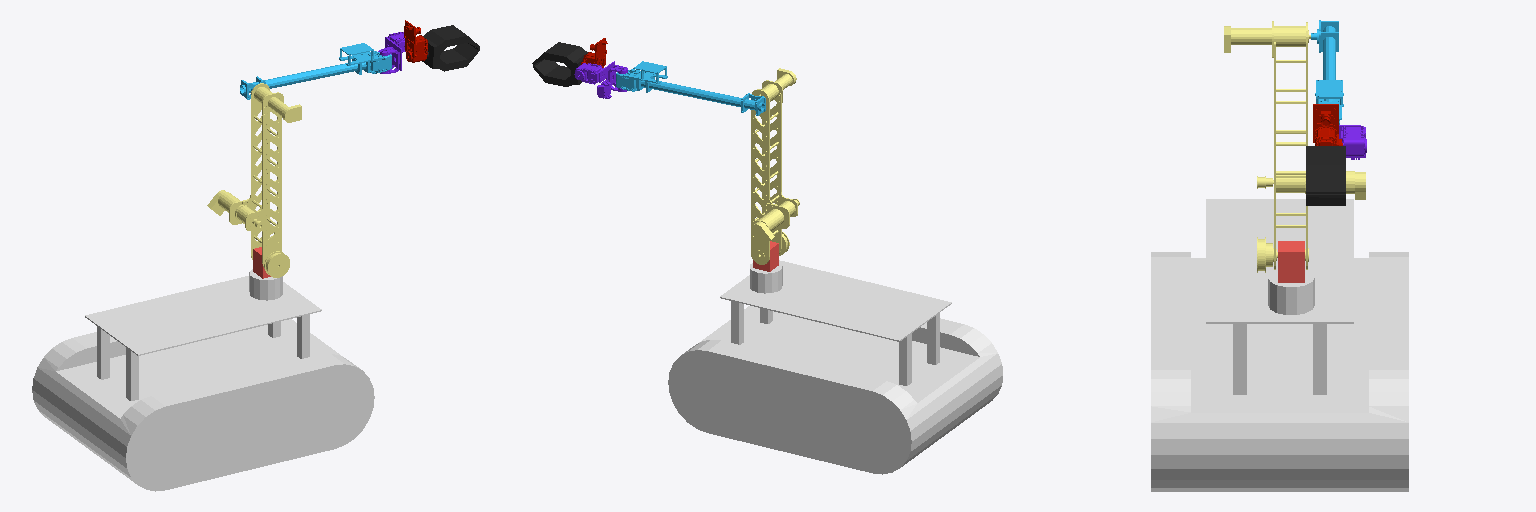
The robot description file, URDF, robot "rescue_urdf":
<?xml version="1.0" encoding="utf-8"?>
<robot name="rescue_urdf">
	<material name="Black">
		<color rgba="0.2 0.2 0.2 1.0" />
	</material>
	<material name="TransparentBlack">
		<color rgba="0.2 0.2 0.2 0.8" />
	</material>
	<material name="Orange">
		<color rgba="1.0  0.55 0.0 1.0" />
	</material>
	<material name="Grey">
		<color rgba="0.7 0.7 0.7 1.0" />
	</material>
	<material name="DarkGrey">
		<color rgba="0.3 0.3 0.3 1.0" />
	</material>
	<material name="Red">
		<color rgba="0.8 0.0 0.0 1.0" />
	</material>
	<material name="White">
		<color rgba="1.0 1.0 1.0 1.0" />
	</material>
	<material name="OffWhite">
		<color rgba="0.8 0.8 0.8 1.0" />
	</material>
	<material name="Blue">
		<color rgba="0.0 0.0 0.8 1.0" />
	</material>
	<material name="Green">
		<color rgba="0.0 0.8 0.0 1.0" />
	</material>
	<material name="TransparentGreen">
		<color rgba="0.0 0.8 0.0 0.5" />
	</material>
	<link name="base_link">
		<inertial>
			<origin xyz="2.019E-18 -4.2223E-19 -0.0015117" rpy="0 0 0" />
			<mass value="0.062832" />
			<inertia ixx="5.4116E-05" ixy="-8.7997E-21" ixz="2.9353E-22" iyy="8.0393E-06" iyz="3.5981E-22" izz="5.8643E-05" />
		</inertial>
		<visual>
			<origin xyz="0 0 0" rpy="0 0 0" />
			<geometry>
				<mesh filename="package://rescue_new/meshes/base_link.STL" />
			</geometry>
			<material name="">
				<color rgba="0.2 0.2 0.2 1" />
			</material>
		</visual>
		<collision>
			<origin xyz="0 0 0" rpy="0 0 0" />
			<geometry>
				<mesh filename="package://rescue_new/meshes/base_link.STL" />
			</geometry>
		</collision>
	</link>
	<joint name="joint_front_back" type="revolute">
		<origin xyz="0 0 -0.01" rpy="0 0 0" />
		<parent link="base_link" />
		<child link="front_back_base" />
		<axis xyz="0 1 0" />
		<limit lower="-1.05" upper="1.05" effort="0" velocity="0" />
	</joint>
	<link name="front_back_base">
		<inertial>
			<origin xyz="5.755E-18 -0.00029577 0.0015169" rpy="0 0 0" />
			<mass value="0.062832" />
			<inertia ixx="8.0393E-06" ixy="4.75E-21" ixz="-3.5459E-22" iyy="5.4121E-05" iyz="-1.5765E-07" izz="5.8638E-05" />
		</inertial>
		<visual>
			<origin xyz="0 0 0" rpy="0 0 0" />
			<geometry>
				<mesh filename="package://rescue_new/meshes/front_back_base.STL" />
			</geometry>
			<material name="">
				<color rgba="0.2 0.2 0.2 1" />
			</material>
		</visual>
		<collision>
			<origin xyz="0 0 0" rpy="0 0 0" />
			<geometry>
				<mesh filename="package://rescue_new/meshes/front_back_base.STL" />
			</geometry>
		</collision>
	</link>
	<joint name="robot_left_right" type="revolute">
		<origin xyz="0 0 0.105" rpy="0 0 0" />
		<parent link="front_back_base" />
		<child link="frame_Link" />
		<axis xyz="1 0 0" />
		<limit lower="-1.05" upper="1.05" effort="0" velocity="0" />
	</joint>
	<link name="frame_Link">
		<inertial>
			<origin xyz="0.00077984 8.3381E-05 -0.0066376" rpy="0 0 0" />
			<mass value="36.094" />
			<inertia ixx="0.57342" ixy="0.00047616" ixz="0.0059852" iyy="1.0475" iyz="0.00063993" izz="1.4159" />
		</inertial>
		<visual>
			<origin xyz="0 0 0" rpy="0 0 0" />
			<geometry>
				<mesh filename="package://rescue_new/meshes/frame_Link.STL" />
			</geometry>
			<material name="">
				<color rgba="0.94 0.94 0.94 1" />
			</material>
		</visual>
		<collision>
			<origin xyz="0 0 0" rpy="0 0 0" />
			<geometry>
				<mesh filename="package://rescue_new/meshes/frame_Link.STL" />
			</geometry>
		</collision>
	</link>
	<!-- 机械臂部分 -->
	<joint name="arm1_bearing_joint" type="revolute">
		<origin xyz="0.159 0.017 0.229" rpy="0 0 0" />
		<parent link="frame_Link" />
		<child link="arm1_Link" />
		<axis xyz="0 0 1" />
		<limit lower="-2.0" upper="2.0" effort="0" velocity="0" />
	</joint>
	<link name="arm1_Link">
		<inertial>
			<origin xyz="0 3.4694E-18 0.024881" rpy="0 0 0" />
			<mass value="0.072961" />
			<inertia ixx="2.5689E-05" ixy="3.1598E-22" ixz="2.3664E-21" iyy="2.6532E-05" iyz="1.1228E-21" izz="2.064E-05" />
		</inertial>
		<visual>
			<origin xyz="0 0 0" rpy="0 0 0" />
			<geometry>
				<mesh filename="package://rescue_new/meshes/arm1_Link.STL" />
			</geometry>
			<material name="">
				<color rgba="1 0.4 0.37 1" />
			</material>
		</visual>
		<collision>
			<origin xyz="0 0 0" rpy="0 0 0" />
			<geometry>
				<mesh filename="package://rescue_new/meshes/arm1_Link.STL" />
			</geometry>
		</collision>
	</link>
	<joint name="arm2_arm1_joint" type="revolute">
		<origin xyz="0 0 0.037" rpy="0 0 0" />
		<parent link="arm1_Link" />
		<child link="arm2_Link" />
		<axis xyz="0 1 0" />
		<limit lower="-1.55" upper="1.4935" effort="0" velocity="0" />
	</joint>
	<link name="arm2_Link">
		<inertial>
			<origin xyz="-0.01735 0.0047967 0.17002" rpy="0 0 0" />
			<mass value="0.35607" />
			<inertia ixx="0.0070072" ixy="-0.00026676" ixz="0.00046445" iyy="0.0063258" iyz="-0.00079961" izz="0.0011004" />
		</inertial>
		<visual>
			<origin xyz="0 0 0" rpy="0 0 0" />
			<geometry>
				<mesh filename="package://rescue_new/meshes/arm2_Link.STL" />
			</geometry>
			<material name="">
				<color rgba="1 0.98 0.62 1" />
			</material>
		</visual>
		<collision>
			<origin xyz="0 0 0" rpy="0 0 0" />
			<geometry>
				<mesh filename="package://rescue_new/meshes/arm2_Link.STL" />
			</geometry>
		</collision>
	</link>
	<joint name="arm3_arm2_joint" type="revolute">
		<origin xyz="0 0.05715 0.36" rpy="1.8121E-15 0.034441 2.8069E-15" />
		<parent link="arm2_Link" />
		<child link="arm3_Link" />
		<axis xyz="0 1 0" />
		<limit lower="-2.6" upper="2" effort="0" velocity="0" />
	</joint>
	<link name="arm3_Link">
		<inertial>
			<origin xyz="0.20711 -0.00070341 0.0017452" rpy="0 0 0" />
			<mass value="0.10124" />
			<inertia ixx="2.3141E-05" ixy="1.4649E-05" ixz="1.5792E-06" iyy="0.0013066" iyz="1.244E-07" izz="0.0012991" />
		</inertial>
		<visual>
			<origin xyz="0 0 0" rpy="0 0 0" />
			<geometry>
				<mesh filename="package://rescue_new/meshes/arm3_Link.STL" />
			</geometry>
			<material name="">
				<color rgba="0.27 0.8 1 1" />
			</material>
		</visual>
		<collision>
			<origin xyz="0 0 0" rpy="0 0 0" />
			<geometry>
				<mesh filename="package://rescue_new/meshes/arm3_Link.STL" />
			</geometry>
		</collision>
	</link>
	<joint name="pt1_arm_joint" type="revolute">
		<origin xyz="0.314 0 -0.003" rpy="-2.2342E-15 3.6082E-16 -2.4361E-16" />
		<parent link="arm3_Link" />
		<child link="pt1_Link" />
		<axis xyz="0 0 1" />
		<limit lower="-1.56302" upper="1.0501" effort="0" velocity="0" />
	</joint>
	<link name="pt1_Link">
		<inertial>
			<origin xyz="0.044077 0.029007 0.0089778" rpy="0 0 0" />
			<mass value="0.075063" />
			<inertia ixx="4.1082E-05" ixy="1.4895E-05" ixz="1.4511E-05" iyy="5.8057E-05" iyz="3.8483E-06" izz="6.3298E-05" />
		</inertial>
		<visual>
			<origin xyz="0 0 0" rpy="0 0 0" />
			<geometry>
				<mesh filename="package://rescue_new/meshes/pt1_Link.STL" />
			</geometry>
			<material name="">
				<color rgba="0.55 0.21 1 1" />
			</material>
		</visual>
		<collision>
			<origin xyz="0 0 0" rpy="0 0 0" />
			<geometry>
				<mesh filename="package://rescue_new/meshes/pt1_Link.STL" />
			</geometry>
		</collision>
	</link>
	<joint name="pt2_pt1_joint" type="revolute">
		<origin xyz="0.0735 -0.0055 0.017" rpy="-2.0532E-15 -2.4702E-15 -1.7413E-15" />
		<parent link="pt1_Link" />
		<child link="pt2_Link" />
		<axis xyz="0 1 0" />
		<limit lower="-1.0444" upper="0.802661" effort="0" velocity="0" />
	</joint>
	<link name="pt2_Link">
		<inertial>
			<origin xyz="-0.00295 0.0014665 0.0054287" rpy="0 0 0" />
			<mass value="0.058403" />
			<inertia ixx="2.8371E-05" ixy="4.0133E-07" ixz="-4.584E-06" iyy="3.0457E-05" iyz="-5.714E-07" izz="1.2557E-05" />
		</inertial>
		<visual>
			<origin xyz="0 0 0" rpy="0 0 0" />
			<geometry>
				<mesh filename="package://rescue_new/meshes/pt2_Link.STL" />
			</geometry>
			<material name="">
				<color rgba="0.78 0.1 0 1" />
			</material>
		</visual>
		<collision>
			<origin xyz="0 0 0" rpy="0 0 0" />
			<geometry>
				<mesh filename="package://rescue_new/meshes/pt2_Link.STL" />
			</geometry>
		</collision>
	</link>
	<joint name="rotate_joint" type="revolute">
		<origin xyz="0.0215 0 -0.0145" rpy="2.2731E-15 7.6328E-17 -2.0733E-16" />
		<parent link="pt2_Link" />
		<child link="paw_rotation_Link" />
		<axis xyz="1 0 0" />
		<limit lower="-1" upper="3.14" effort="0" velocity="0" />
	</joint>
	<link name="paw_rotation_Link">
		<inertial>
			<origin xyz="0.045466 -2.7756E-17 -1.1102E-16" rpy="0 0 0" />
			<mass value="0.22083" />
			<inertia ixx="0.00017979" ixy="1.124E-20" ixz="8.0468E-21" iyy="0.00027562" iyz="-1.3329E-11" izz="0.00032364" />
		</inertial>
		<visual>
			<origin xyz="0 0 0" rpy="1.57 0 0" />
			<geometry>
				<mesh filename="package://rescue_new/meshes/paw_rotation_Link.STL" />
			</geometry>
			<material name="">
				<color rgba="0.2 0.2 0.2 1" />
			</material>
		</visual>
		<collision>
			<origin xyz="0 0 0" rpy="0 0 0" />
			<geometry>
				<mesh filename="package://rescue_new/meshes/paw_rotation_Link.STL" />
			</geometry>
		</collision>
	</link>
</robot>

--- What the picture shows (computed from the rendered views, not written in the file) ---
The picture shows the robot from 3 angles, left to right: view 1: azimuth 30°, elevation 25°; view 2: azimuth 150°, elevation 25°; view 3: azimuth 270°, elevation 25°; orthographic projection.
Robot: rescue_urdf — 9 links, 8 joints (8 revolute); root link base_link; default pose: every joint at zero.
Links seen in each view (by area): view 1: frame_Link, arm2_Link, arm3_Link, paw_rotation_Link, pt2_Link, pt1_Link; view 2: frame_Link, arm2_Link, arm3_Link, paw_rotation_Link, pt1_Link; view 3: frame_Link, arm2_Link, paw_rotation_Link, arm3_Link, arm1_Link, pt2_Link, pt1_Link.
Boxes of the visible links, x1,y1,x2,y2 form: frame_Link: (32, 269, 374, 491); arm2_Link: (207, 83, 301, 277); arm3_Link: (240, 43, 391, 99); paw_rotation_Link: (422, 25, 479, 71); pt2_Link: (404, 20, 427, 62); pt1_Link: (378, 32, 405, 73); frame_Link: (668, 260, 1002, 474); arm2_Link: (751, 68, 799, 264); arm3_Link: (616, 61, 765, 115); paw_rotation_Link: (532, 42, 587, 86); pt1_Link: (574, 61, 627, 98); frame_Link: (1151, 199, 1408, 491); arm2_Link: (1224, 21, 1365, 272); paw_rotation_Link: (1306, 146, 1345, 205); arm3_Link: (1311, 20, 1343, 124); arm1_Link: (1278, 241, 1304, 282); pt2_Link: (1313, 104, 1342, 145); pt1_Link: (1339, 125, 1366, 159).
Bounding box of the posed robot: 0.9728 × 0.385 × 0.7913 m (x, y, z).
8 mesh visuals loaded from 9 distinct referenced files (8 binary STL); not drawn: 1 (reference not matched to a file when rendering).